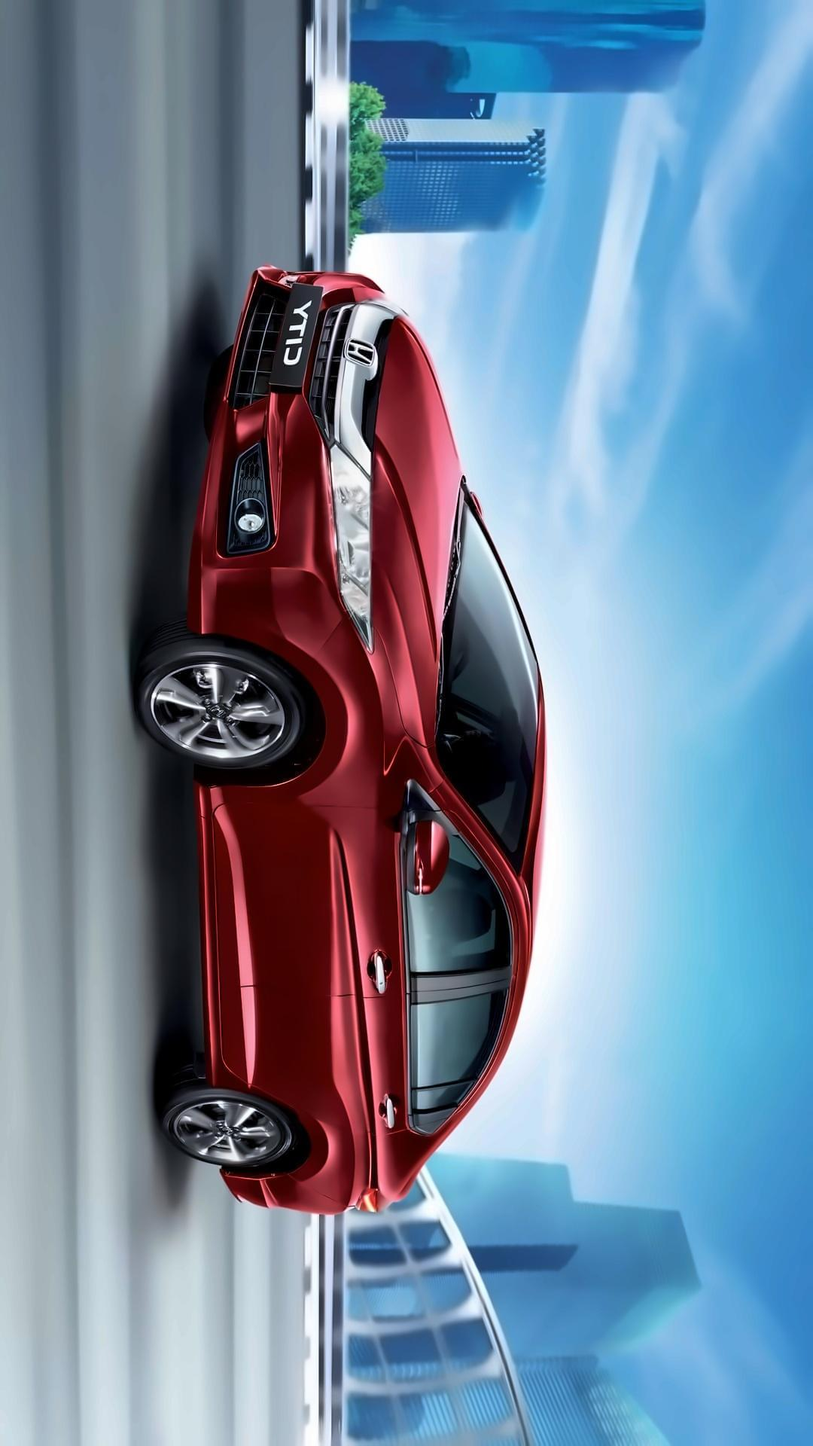Car hood: (352, 312, 466, 771)
Fender - -F-L-: (142, 598, 429, 814)
Fender - -R-L-: (209, 1092, 471, 1211)
Front bumper: (166, 232, 386, 660)
Headlight - -L-: (311, 432, 379, 651)
Passenger-s door - -F-L-: (163, 743, 547, 1010)
Passenger-s door - -R-L-: (156, 962, 569, 1137)
Side bumper - -L-: (143, 741, 281, 1099)
Side mirror - -L-: (394, 799, 449, 907)
